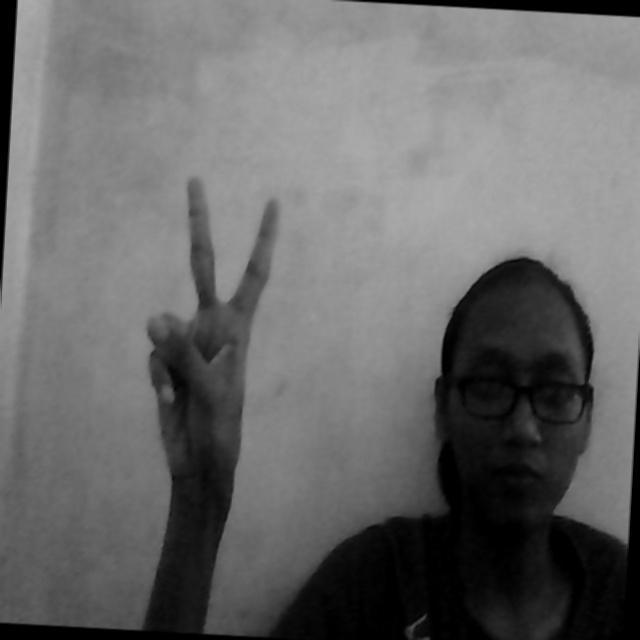V: (139, 159, 291, 493)
